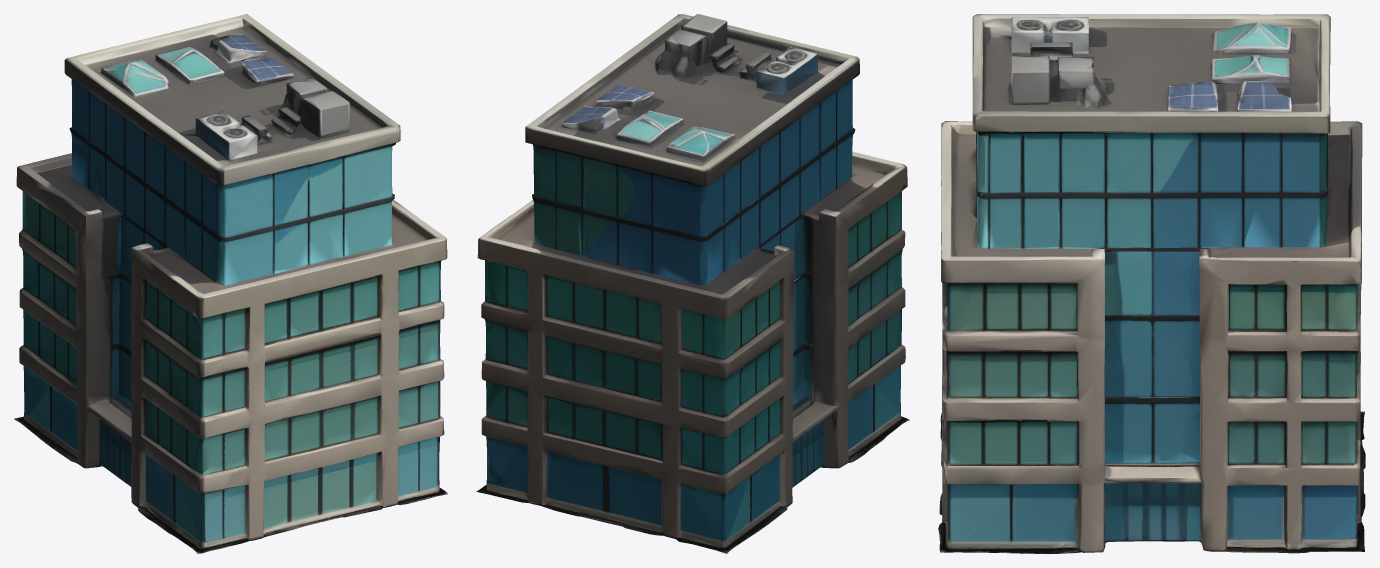
The model's file is office_tower_glass.glb.
The picture shows the model from 3 angles, left to right: view 1: azimuth 30°, elevation 25°; view 2: azimuth 150°, elevation 25°; view 3: azimuth 270°, elevation 25°; orthographic projection. The views are drawn at different scales.
Parts seen in each view (by area): view 1: world; view 2: world; view 3: world.
Part boxes in pixels (x1,y1,x2,y2): world: (14, 14, 447, 553); world: (476, 14, 909, 553); world: (938, 14, 1365, 553).
Size of the model in its own units: 0.6902 by 0.9955 by 0.8708.
1 material, 1 textured.
